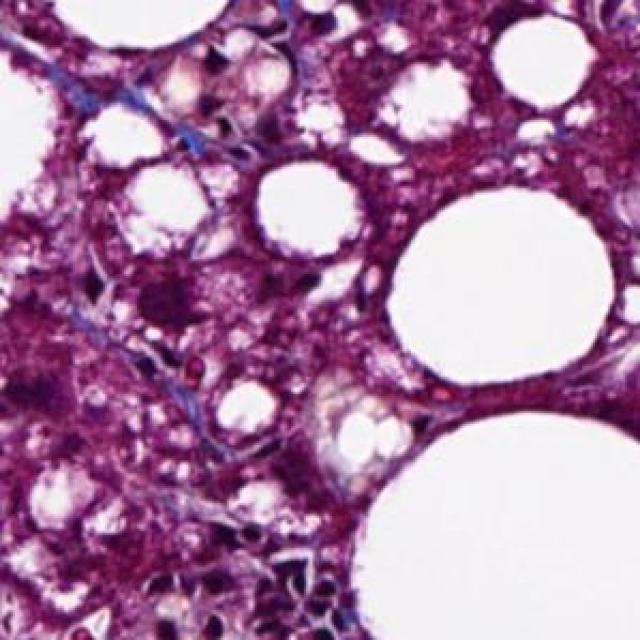inflammation: (242, 552, 364, 640), (184, 41, 248, 146)
